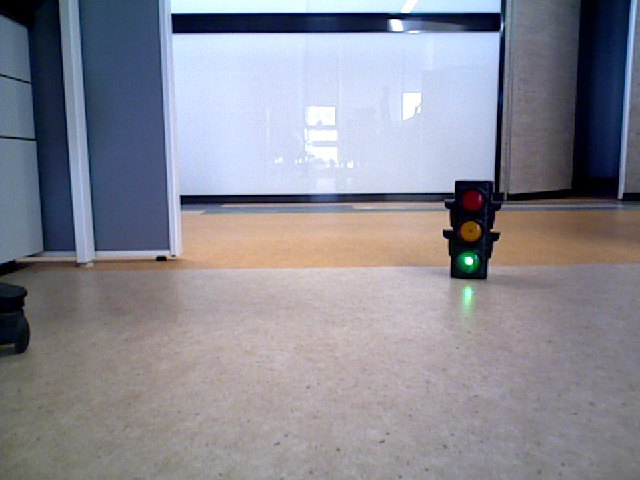green: (453, 183, 486, 275)
